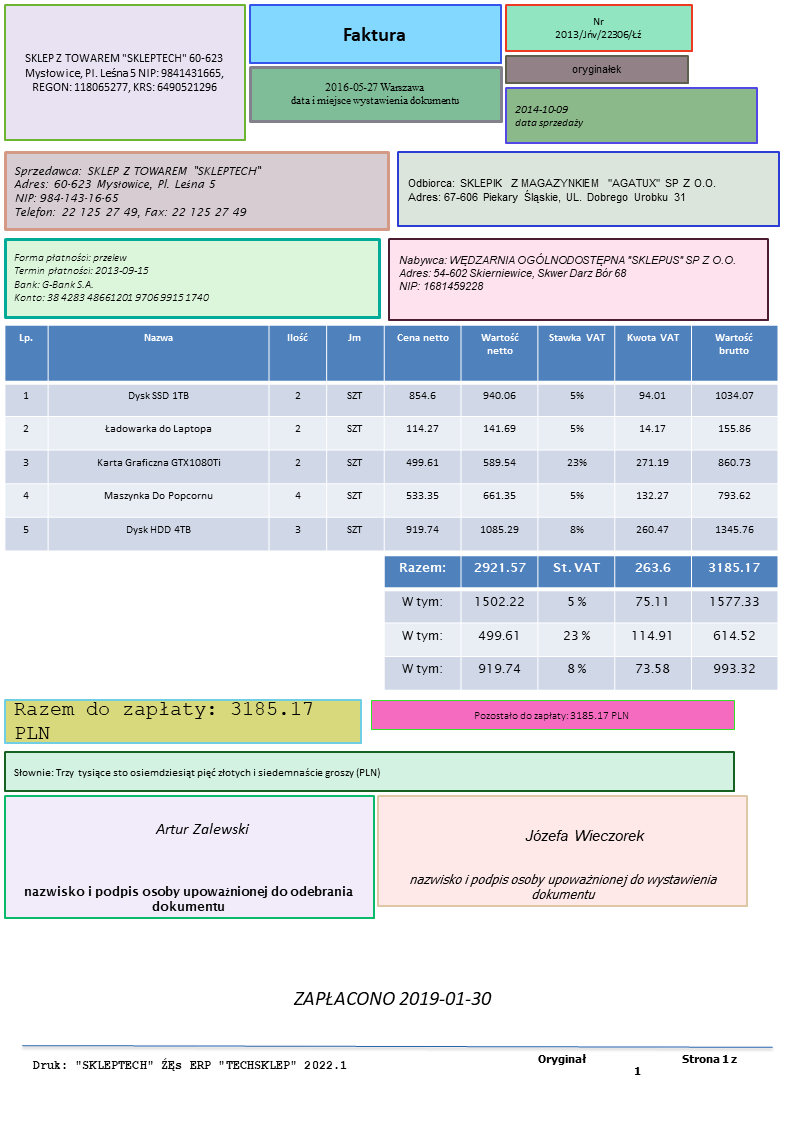Table: (4, 325, 779, 551), (383, 554, 778, 691)
TextBox: (11, 162, 266, 222), (396, 250, 739, 294), (12, 698, 316, 743), (11, 250, 212, 306), (406, 870, 721, 904), (22, 883, 356, 915), (403, 174, 716, 207), (23, 49, 225, 95), (29, 1056, 350, 1076), (289, 983, 495, 1013), (534, 1052, 740, 1081), (11, 765, 383, 780), (288, 80, 461, 108), (471, 707, 631, 723), (554, 15, 644, 43), (522, 827, 645, 845), (512, 102, 584, 132), (152, 818, 252, 838), (339, 23, 407, 45), (568, 62, 623, 77)
